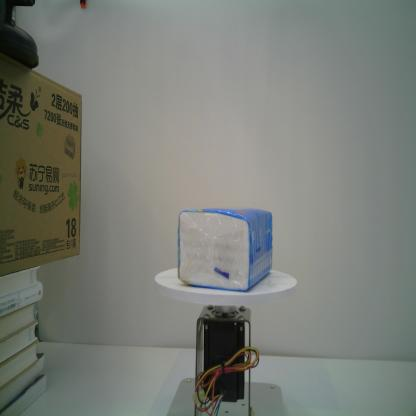Tissue: (176, 206, 274, 291)
